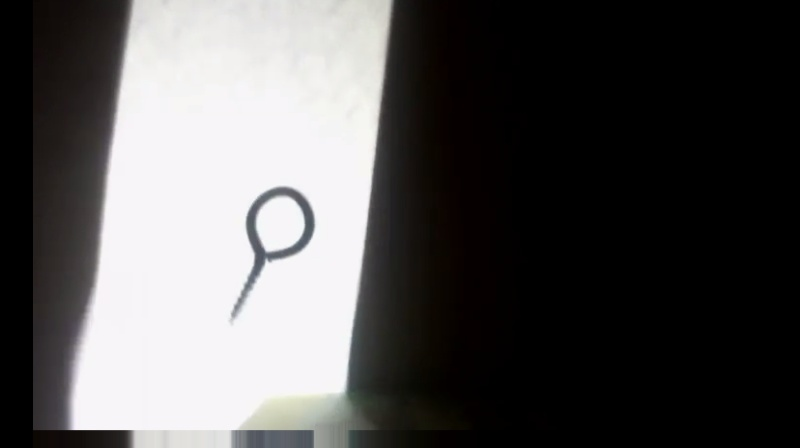O001: (222, 183, 317, 327)
